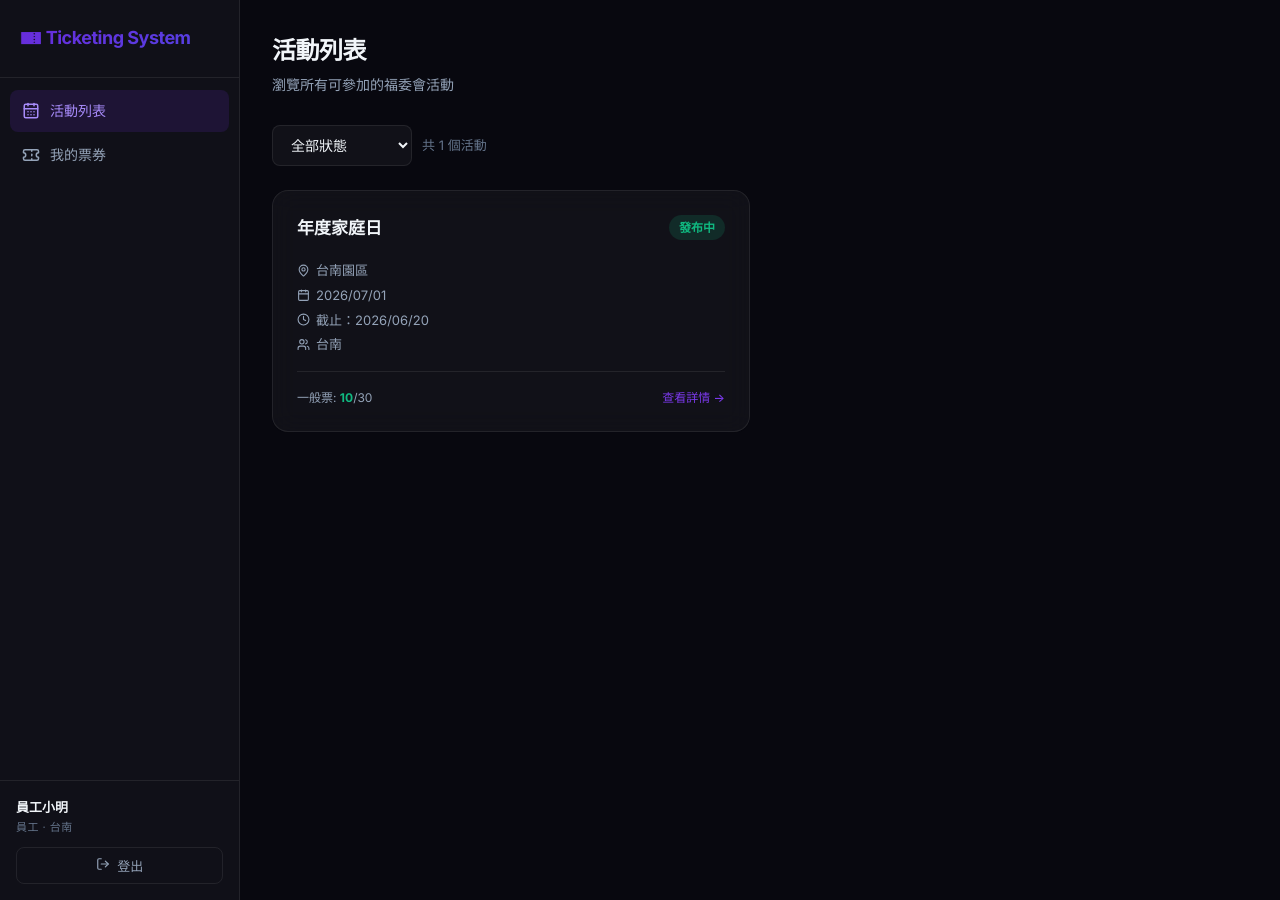
登入與授權整合流程 › 已登入使用者登出後會清除 token 並回到登入頁
Check: the text "年度家庭日" is shown, box [297, 215, 382, 242]
What coordinates should you click on to do the following:
click the button "登出"
I would click on:
 (120, 866)
Its box is [16, 847, 223, 884].
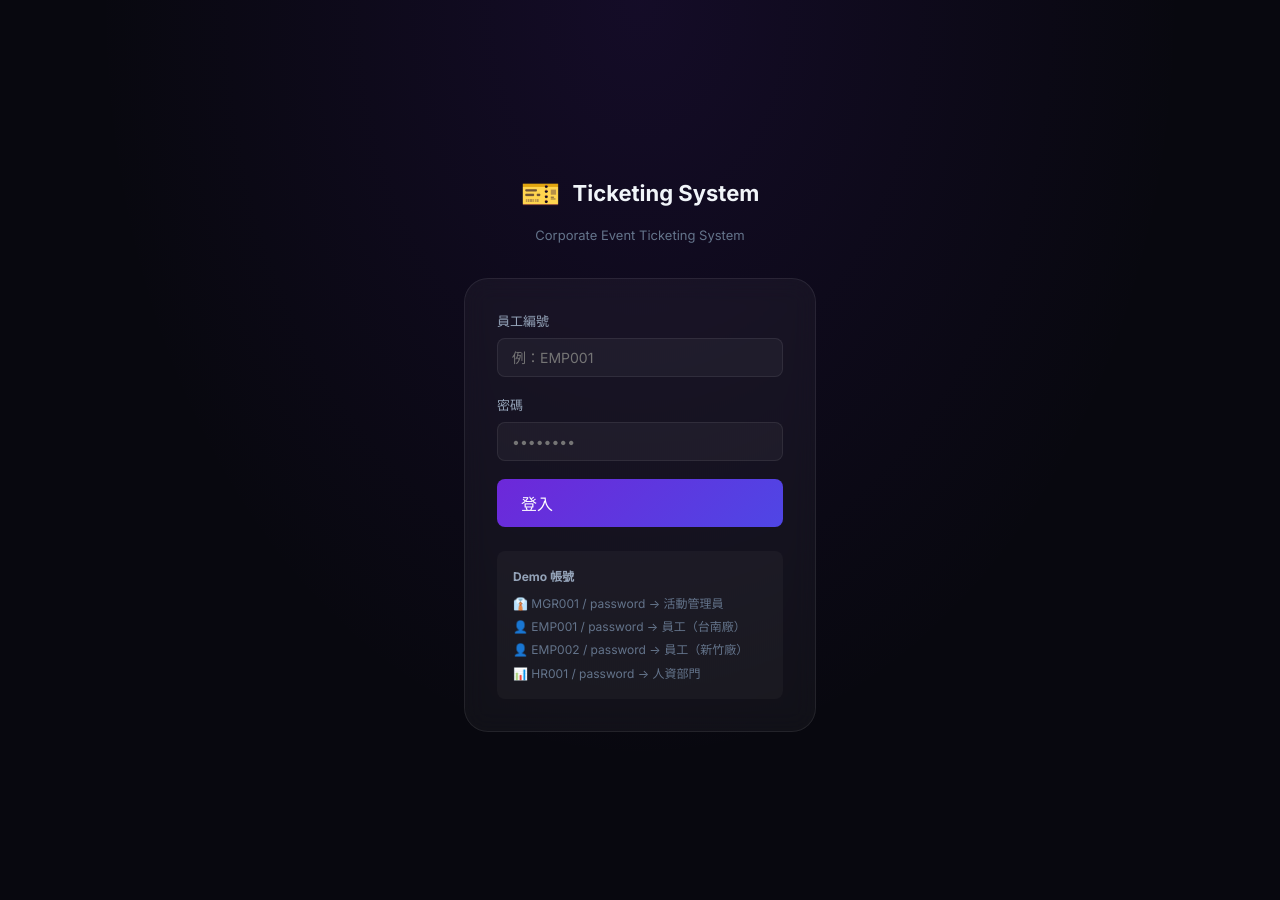
Check: the button "登入" is shown, box [497, 479, 783, 527]
Check: the button "年度家庭日" is gone
